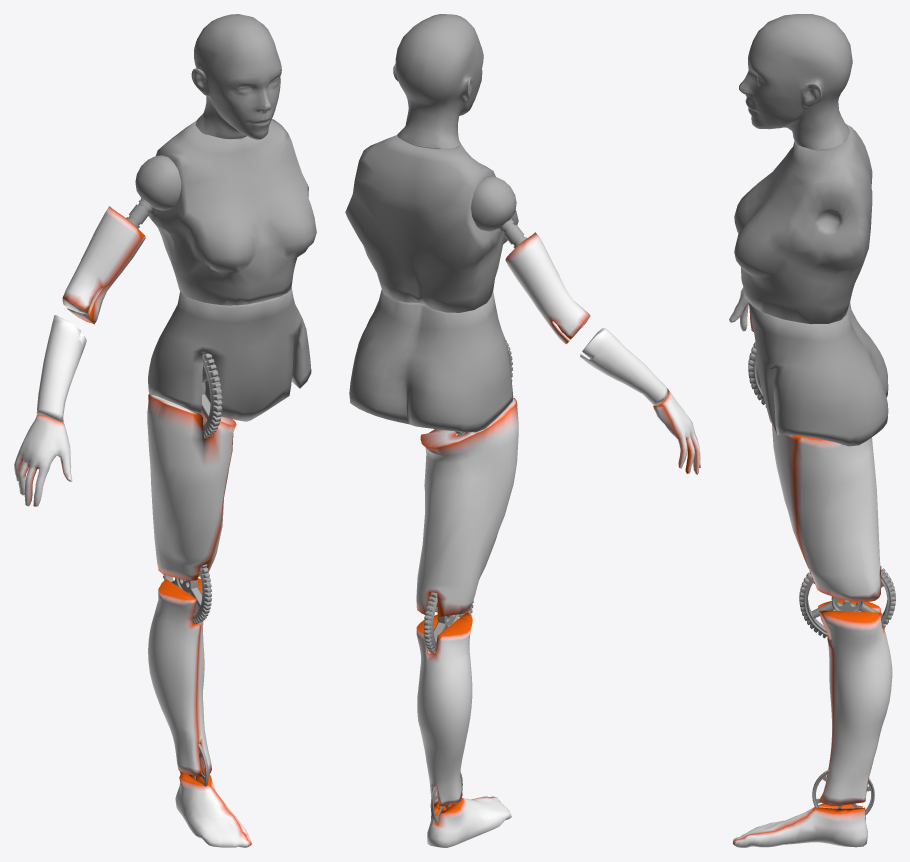
Rendered from Manequin_complete_low.fbx.
3 views of the same model, side by side, from view 1: azimuth 30°, elevation 25°; view 2: azimuth 150°, elevation 25°; view 3: azimuth 270°, elevation 25° (orthographic). The views are drawn at different scales.
Visible parts, largest first — view 1: Mannequin_Chest, Mannequin_body_down, legs_top_low_SeamsColor, Mannequin_Head, legs_bottom_low_SeamsColor, mannequin_upper_arm_low_SeamsColor, mannequin_feet_low_SeamsColor, mannequin_lower_arm_low, mannequin_hands_low_SeamsColor, PM3D_Sphere3D1, UMesh_Female_Anatomy_ZBrush1, PolyMesh3D_3; view 2: Mannequin_Chest, Mannequin_body_down, legs_top_low_SeamsColor, Mannequin_Head, legs_bottom_low_SeamsColor, mannequin_upper_arm_low_SeamsColor, mannequin_feet_low_SeamsColor, mannequin_lower_arm_low, PM3D_Sphere3D1, mannequin_hands_low_SeamsColor, PolyMesh3D_3; view 3: Mannequin_Chest, Mannequin_body_down, legs_top_low_SeamsColor, Mannequin_Head, legs_bottom_low_SeamsColor, mannequin_feet_low_SeamsColor, PolyMesh3D_3, mannequin_hands_low_SeamsColor, UMesh_Female_Anatomy_ZBrush1, UMesh_Female_Anatomy_ZBrush6_2.
Part boxes in pixels (box(x1,y1,x2,y2)): Mannequin_Chest: box(148, 119, 316, 305); Mannequin_body_down: box(148, 288, 311, 421); legs_top_low_SeamsColor: box(147, 393, 236, 580); Mannequin_Head: box(191, 14, 281, 139); legs_bottom_low_SeamsColor: box(148, 578, 211, 776); mannequin_upper_arm_low_SeamsColor: box(62, 206, 145, 324); mannequin_feet_low_SeamsColor: box(175, 772, 251, 847); mannequin_lower_arm_low: box(36, 315, 86, 422); mannequin_hands_low_SeamsColor: box(14, 414, 72, 506); PM3D_Sphere3D1: box(126, 155, 181, 228); UMesh_Female_Anatomy_ZBrush1: box(194, 351, 222, 438); PolyMesh3D_3: box(163, 564, 211, 623); Mannequin_Chest: box(345, 135, 518, 312); Mannequin_body_down: box(349, 289, 513, 432); legs_top_low_SeamsColor: box(416, 398, 518, 617); Mannequin_Head: box(393, 14, 483, 148); legs_bottom_low_SeamsColor: box(416, 612, 472, 806); mannequin_upper_arm_low_SeamsColor: box(505, 232, 590, 343); mannequin_feet_low_SeamsColor: box(427, 796, 511, 847); mannequin_lower_arm_low: box(580, 328, 668, 405); PM3D_Sphere3D1: box(471, 176, 526, 248); mannequin_hands_low_SeamsColor: box(653, 390, 700, 474); PolyMesh3D_3: box(423, 592, 473, 654); Mannequin_Chest: box(734, 124, 872, 324); Mannequin_body_down: box(748, 302, 888, 446); legs_top_low_SeamsColor: box(772, 424, 881, 601); Mannequin_Head: box(739, 14, 852, 150); legs_bottom_low_SeamsColor: box(818, 600, 892, 805); mannequin_feet_low_SeamsColor: box(732, 803, 867, 847); PolyMesh3D_3: box(799, 566, 895, 639); mannequin_hands_low_SeamsColor: box(729, 287, 753, 331); UMesh_Female_Anatomy_ZBrush1: box(748, 342, 766, 407); UMesh_Female_Anatomy_ZBrush6_2: box(812, 769, 874, 814).
Bounding box in the file's own units: 2.57 × 6.34 × 1.14.
